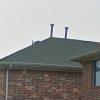Chimney: (45, 17, 72, 42)
